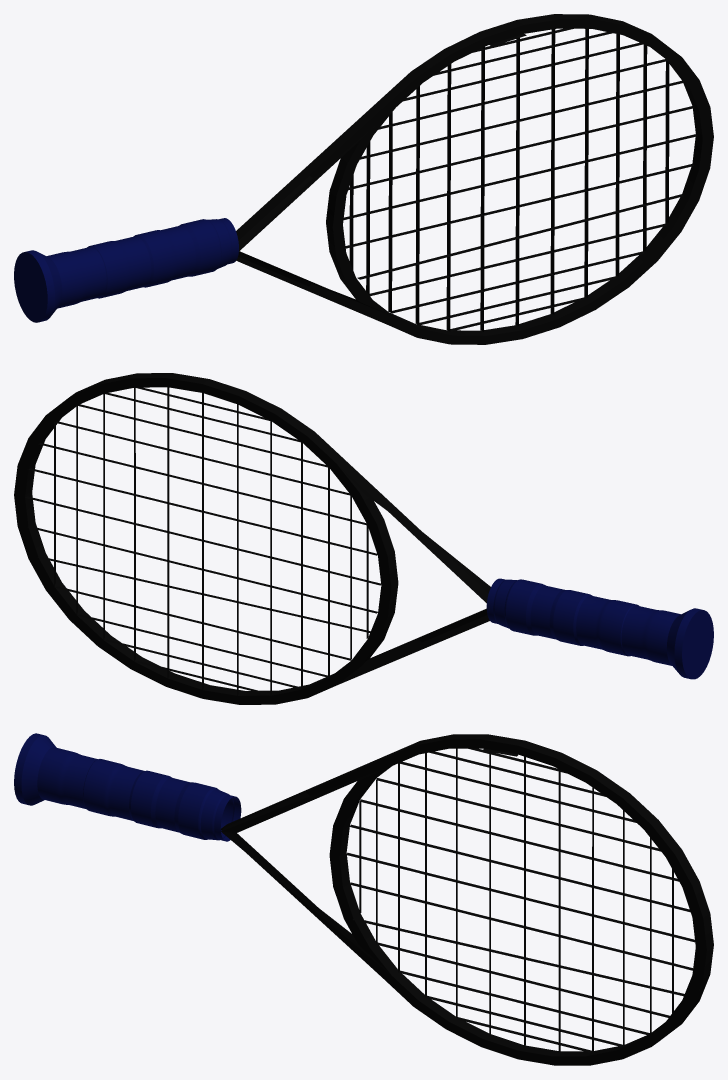
3 renders of one model, top to bottom at view 1: azimuth 30°, elevation 25°; view 2: azimuth 150°, elevation 25°; view 3: azimuth 330°, elevation 25°, orthographic.
Parts seen in each view (by area): view 1: Cilindro_2; view 2: Cilindro_2; view 3: Cilindro_2.
Part boxes in pixels (box(x1,y1,x2,y2)): Cilindro_2: box(14, 14, 713, 344); Cilindro_2: box(14, 373, 713, 704); Cilindro_2: box(14, 733, 713, 1065).
Size of the model in its own units: 4.55 by 2.01 by 0.3812.
